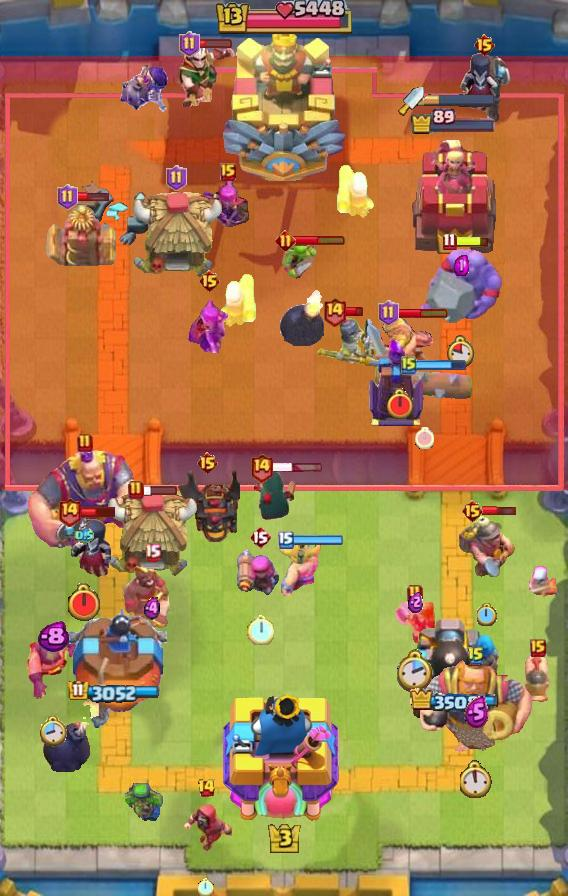archer-evolution: (186, 293, 232, 353), (203, 177, 253, 229)
bandit: (251, 469, 297, 523)
bar: (396, 307, 449, 319), (293, 234, 346, 246), (415, 359, 467, 371), (271, 462, 323, 473), (292, 535, 343, 545), (80, 505, 117, 518), (454, 235, 490, 248), (482, 504, 517, 517), (142, 484, 178, 496), (197, 38, 233, 49), (75, 191, 110, 202), (345, 306, 364, 317)
bar-level: (57, 496, 82, 527), (249, 452, 274, 483), (322, 296, 347, 327), (461, 499, 484, 523), (196, 451, 219, 475), (198, 269, 221, 293), (473, 33, 496, 57), (378, 300, 399, 326), (57, 184, 78, 210), (166, 165, 187, 191), (179, 31, 200, 57), (249, 525, 271, 549), (275, 230, 296, 251), (197, 778, 216, 798), (467, 646, 485, 666), (144, 543, 161, 562), (407, 584, 423, 604), (128, 480, 144, 500), (77, 433, 93, 453), (401, 355, 417, 375), (530, 639, 546, 657), (278, 531, 294, 549), (220, 163, 236, 181), (442, 232, 457, 251)
bomb: (42, 701, 102, 773), (279, 287, 325, 346)
bomber-evolution: (116, 64, 170, 114)
cannoneer-tower: (406, 611, 500, 731)
clock: (397, 649, 434, 694), (66, 583, 102, 623), (460, 760, 493, 798), (385, 388, 415, 421), (447, 335, 475, 368), (39, 716, 67, 748), (247, 614, 274, 645), (477, 603, 497, 626), (415, 427, 434, 449), (198, 878, 214, 896)
dagger-duchess-tower: (409, 138, 497, 256)
dagger-duchess-tower-bar: (424, 93, 496, 107)
elite-barbarian: (365, 316, 435, 374), (277, 540, 321, 596)
elixir: (37, 621, 69, 653), (464, 696, 489, 728), (144, 597, 160, 620), (408, 591, 423, 613), (75, 527, 94, 544), (454, 255, 469, 276)
executioner: (26, 631, 80, 701)
firecracker: (235, 546, 285, 600), (216, 271, 258, 329), (335, 162, 377, 220)
goblin: (281, 238, 319, 280)
guard: (314, 309, 390, 373)
king-tower: (220, 21, 348, 181), (223, 689, 345, 826)
king-tower-bar: (213, 0, 355, 38)
miner: (456, 508, 518, 580)
night-witch: (455, 51, 513, 123), (53, 515, 115, 581)
queen-tower: (61, 603, 167, 731)
royal-hog: (522, 651, 554, 705)
skeleton: (527, 566, 558, 597)
spear-goblin: (125, 783, 167, 823)
tesla: (46, 201, 116, 269)
the-log: (373, 365, 475, 403)
tower-bar: (410, 108, 497, 135), (408, 688, 498, 713), (68, 679, 160, 703)
valkyrie: (393, 601, 437, 649)
wizard: (180, 802, 232, 852)
